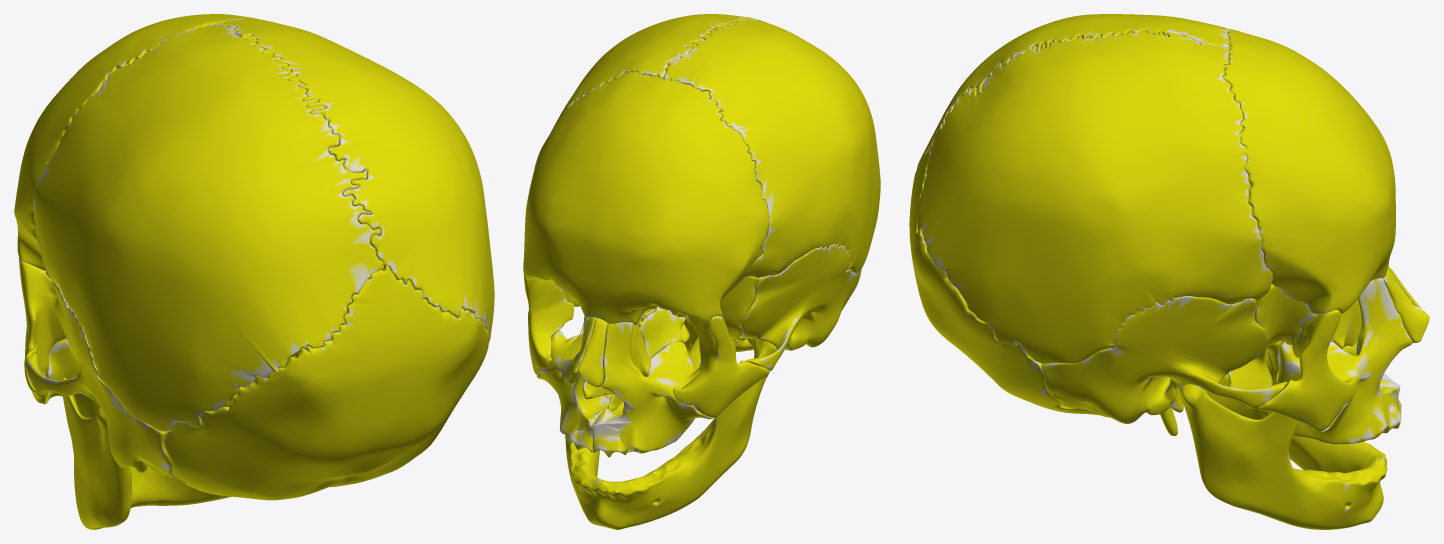
Rendered from skull_without_teeth.glb.
3 renders of one model, left to right at view 1: azimuth 30°, elevation 25°; view 2: azimuth 150°, elevation 25°; view 3: azimuth 270°, elevation 25°, orthographic. The views are drawn at different scales.
Parts seen in each view (by area): view 1: parietal_bone_L, occipital_bone, parietal_bone_R, frontal_bone, mandible, temporal_bone_L, zygomatic_bone_L, maxilla_L; view 2: frontal_bone, parietal_bone_L, mandible, maxilla_L, temporal_bone_L, parietal_bone_R, zygomatic_bone_L, maxilla_R, zygomatic_bone_R, sphenoid_bone, ethmoid, nasal_bone_L (+2 smaller); view 3: parietal_bone_R, frontal_bone, mandible, temporal_bone_R, maxilla_R, occipital_bone, parietal_bone_L, zygomatic_bone_R, sphenoid_bone, nasal_bone_R, lacrimal_bone_R.
Part boxes in pixels (bbox=[...]): parietal_bone_L: bbox=[33, 25, 384, 431]; occipital_bone: bbox=[164, 265, 489, 500]; parietal_bone_R: bbox=[213, 19, 494, 342]; frontal_bone: bbox=[14, 14, 258, 271]; mandible: bbox=[62, 377, 231, 529]; temporal_bone_L: bbox=[25, 279, 179, 479]; zygomatic_bone_L: bbox=[19, 257, 66, 403]; maxilla_L: bbox=[42, 338, 99, 417]; frontal_bone: bbox=[523, 71, 769, 324]; parietal_bone_L: bbox=[663, 18, 880, 277]; mandible: bbox=[565, 322, 776, 529]; maxilla_L: bbox=[592, 322, 713, 457]; temporal_bone_L: bbox=[740, 244, 861, 377]; parietal_bone_R: bbox=[534, 14, 756, 167]; zygomatic_bone_L: bbox=[673, 315, 769, 417]; maxilla_R: bbox=[537, 315, 610, 452]; zygomatic_bone_R: bbox=[523, 274, 573, 375]; sphenoid_bone: bbox=[562, 276, 757, 370]; ethmoid: bbox=[638, 306, 685, 358]; nasal_bone_L: bbox=[578, 318, 607, 387]; parietal_bone_R: bbox=[917, 30, 1272, 363]; frontal_bone: bbox=[1222, 29, 1395, 314]; mandible: bbox=[1179, 374, 1387, 529]; temporal_bone_R: bbox=[1041, 296, 1287, 435]; maxilla_R: bbox=[1277, 278, 1412, 444]; occipital_bone: bbox=[909, 149, 1100, 415]; parietal_bone_L: bbox=[917, 14, 1230, 168]; zygomatic_bone_R: bbox=[1257, 309, 1356, 431]; sphenoid_bone: bbox=[1227, 284, 1314, 409]; nasal_bone_R: bbox=[1383, 269, 1429, 342]; lacrimal_bone_R: bbox=[1332, 298, 1361, 348].
Size of the model in its own units: 0.1509 by 0.2146 by 0.2086.
